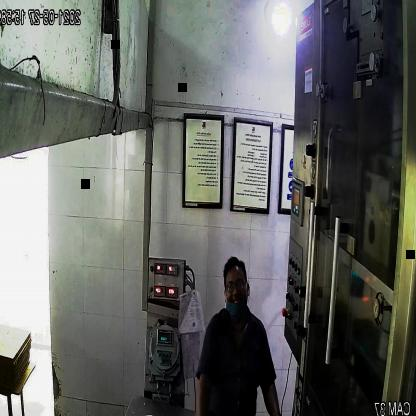goggles: (221, 274, 252, 298)
